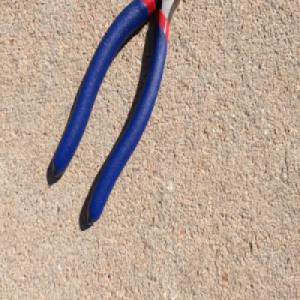Pliers: (51, 0, 184, 228)
